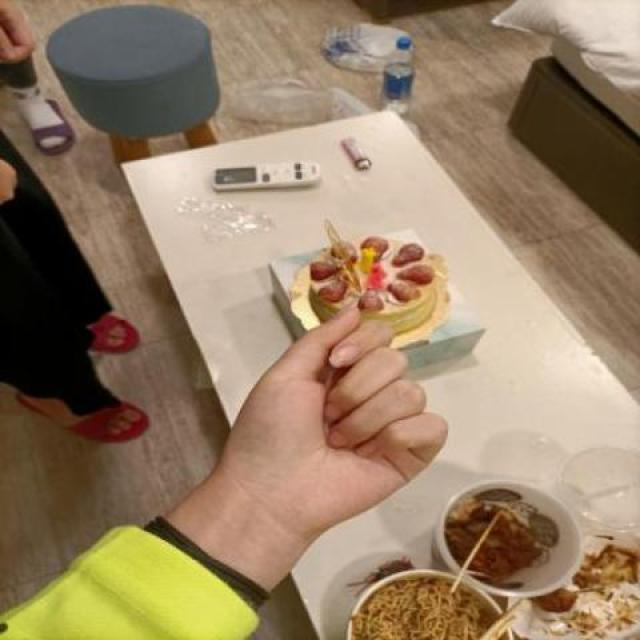Closed Hand: (210, 308, 450, 531)
